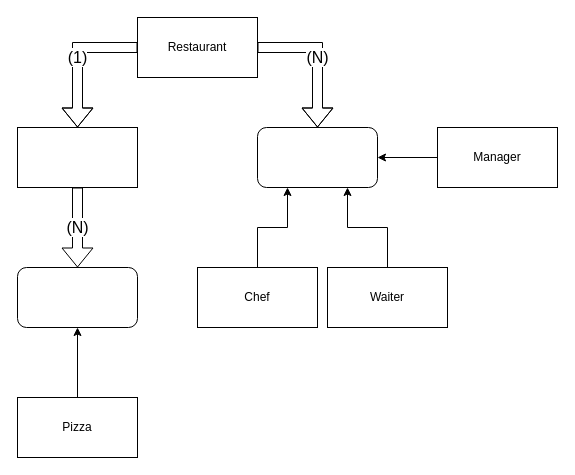
Some shapes in this 575 by 475 pixel diagram are drawn without their labels. The shapes that lost their labels are listed below. From the top down, each one's centre as x and y in pixels, then its label:
the point at 77,157: Menu
the point at 317,157: Employee
the point at 77,297: FoodItem
